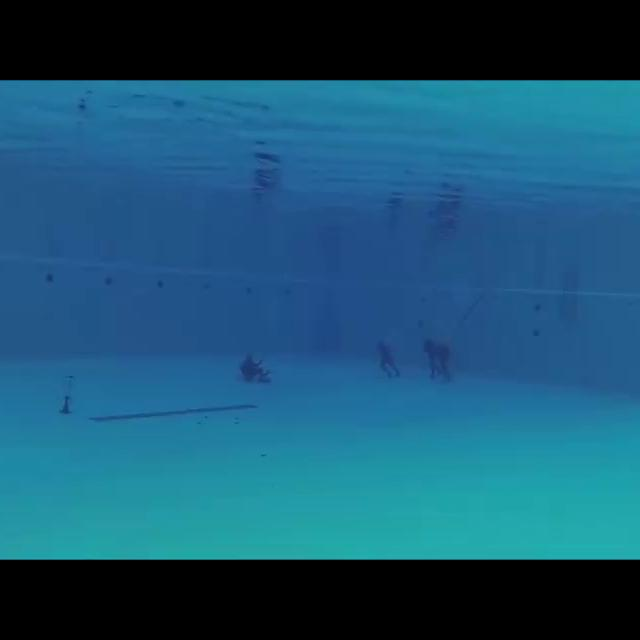human: (371, 333, 403, 383), (237, 346, 271, 389), (421, 329, 444, 382), (435, 338, 459, 387)
